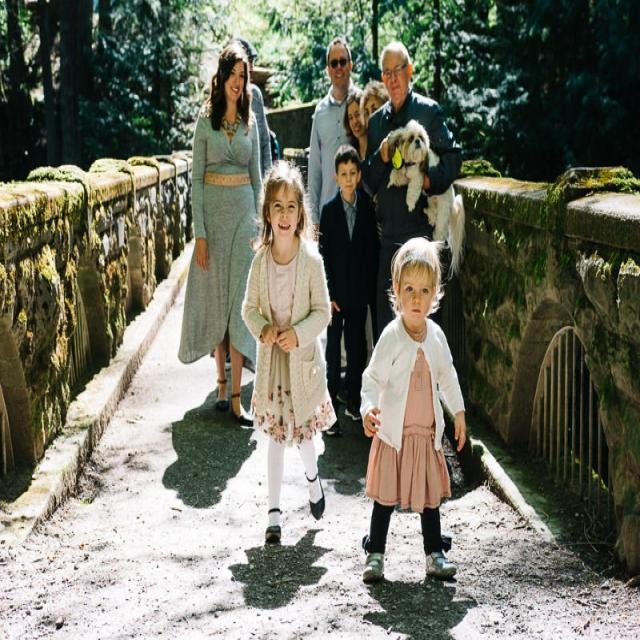body: (238, 154, 340, 549), (357, 232, 469, 586), (174, 37, 272, 431), (358, 38, 464, 346), (306, 35, 376, 373), (316, 139, 382, 438), (161, 397, 260, 511), (358, 558, 476, 640), (227, 524, 332, 616), (358, 78, 404, 247), (232, 35, 276, 188), (317, 421, 377, 499), (340, 85, 370, 163)
